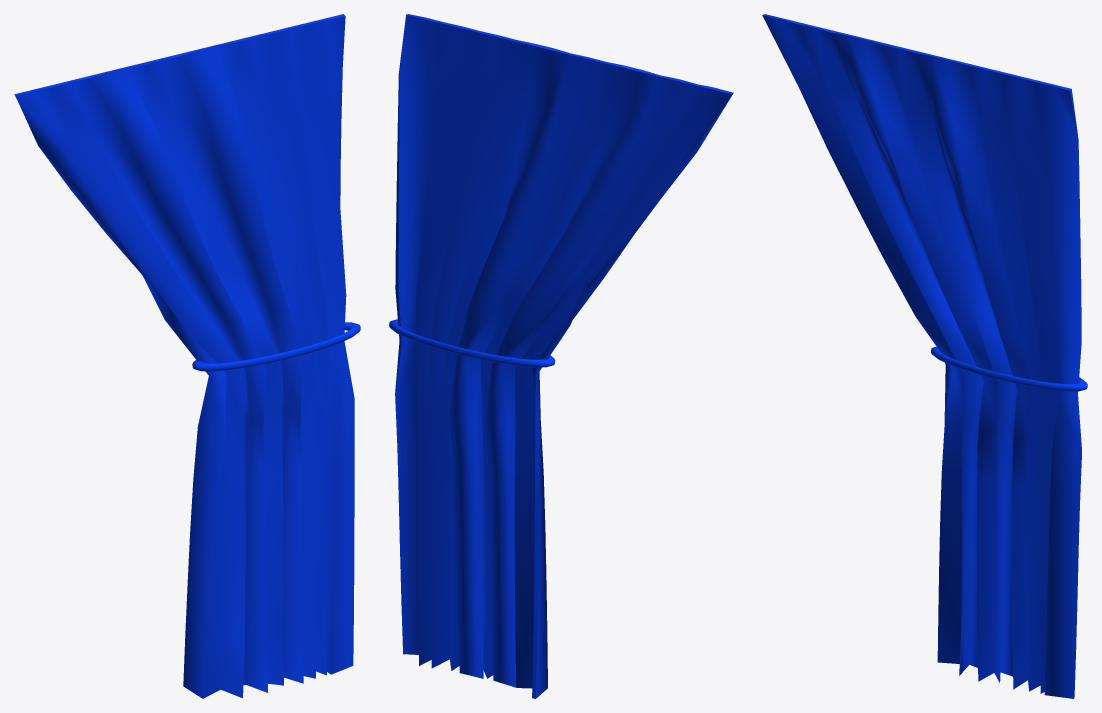
File: Curtain-Single.FBX
3 views of the same model, side by side, from view 1: azimuth 30°, elevation 25°; view 2: azimuth 150°, elevation 25°; view 3: azimuth 330°, elevation 25° (orthographic). The views are drawn at different scales.
Parts seen in each view (by area): view 1: Curtain-Right; view 2: Curtain-Right; view 3: Curtain-Right.
Part boxes in pixels (x1=…): Curtain-Right: x1=14, y1=14, x2=360, y2=698; Curtain-Right: x1=389, y1=14, x2=733, y2=698; Curtain-Right: x1=762, y1=14, x2=1087, y2=698.
Size of the model in its own units: 92.78 by 166 by 12.49.
